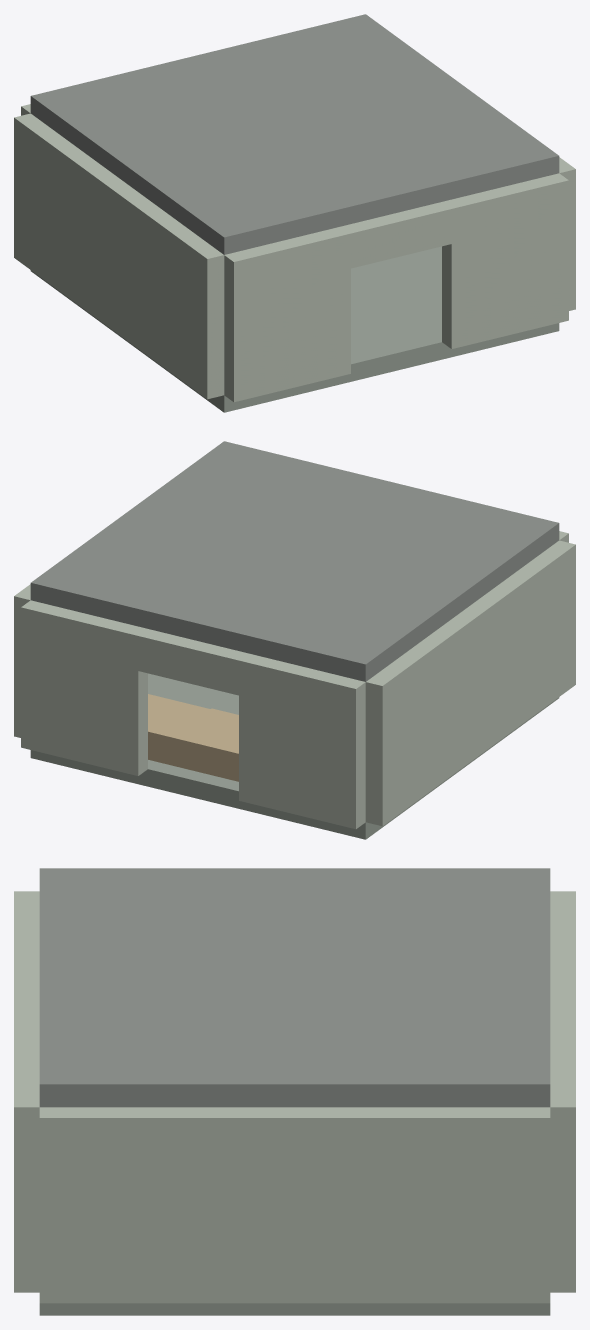
File: test-room.glb
3 views of the same model, one above another, from view 1: azimuth 30°, elevation 25°; view 2: azimuth 150°, elevation 25°; view 3: azimuth 270°, elevation 25° (orthographic). The views are drawn at different scales.
Visible parts, largest first — view 1: ceiling, wall_west, wall_south_left, wall_south_right, floor, wall_south_lintel, wall_east; view 2: ceiling, wall_west, wall_north_left, wall_north_right, floor, dais, wall_north_lintel, wall_east; view 3: ceiling, wall_east, wall_north_right, wall_south_right, floor, wall_north_left, wall_south_left, wall_north_lintel, wall_south_lintel.
Boxes of the visible parts, x1,y1,x2,y2 form: ceiling: [30, 14, 559, 254]; wall_west: [14, 113, 224, 399]; wall_south_left: [224, 226, 350, 402]; wall_south_right: [442, 173, 568, 348]; floor: [30, 246, 559, 412]; wall_south_lintel: [342, 202, 451, 268]; wall_east: [559, 157, 575, 310]; ceiling: [30, 441, 559, 681]; wall_west: [365, 540, 575, 826]; wall_north_left: [239, 653, 365, 829]; wall_north_right: [21, 600, 147, 775]; floor: [30, 673, 559, 839]; dais: [148, 694, 238, 781]; wall_north_lintel: [138, 629, 247, 695]; wall_east: [14, 584, 30, 737]; ceiling: [39, 868, 550, 1107]; wall_east: [39, 1107, 550, 1303]; wall_north_right: [550, 1031, 575, 1292]; wall_south_right: [14, 1031, 39, 1292]; floor: [39, 1303, 550, 1315]; wall_north_left: [550, 891, 575, 966]; wall_south_left: [14, 891, 39, 966]; wall_north_lintel: [550, 967, 575, 1031]; wall_south_lintel: [14, 967, 39, 1031].
Size of the model in its own units: 11 by 5 by 11.
